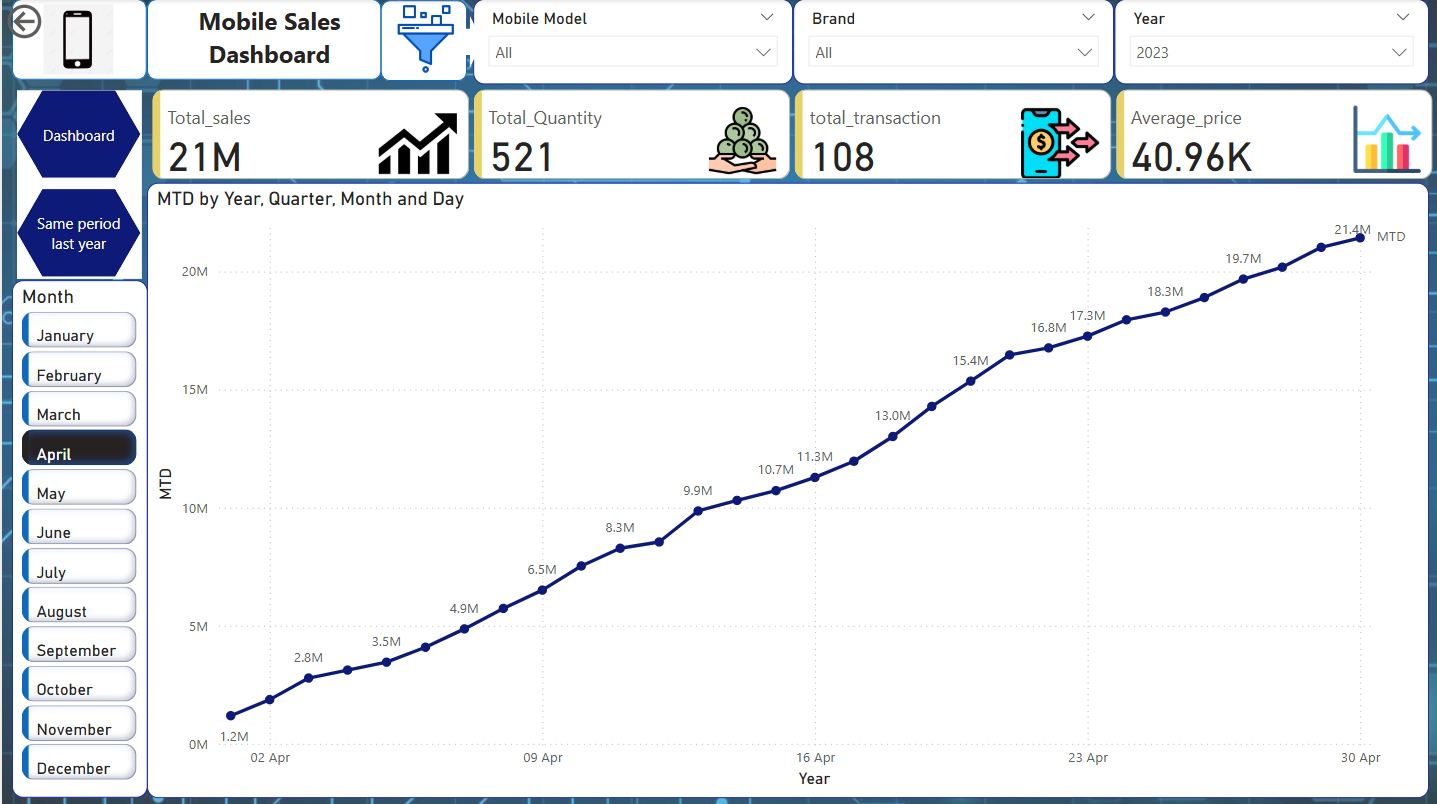

Layout of this report page (visuals, bound fields, positions):
{"tool":"powerbi","page":{"name":"MTD","canvas":[1280,720],"ordinal":1},"visuals":[{"type":"shape","box":[8.4,0,120.6,72.4],"z":0},{"type":"cardVisual","fields":{"Data":["sales_data.Total_sales","sales_data.Total_Quantity","sales_data.total_transaction","sales_data.Average_price"]},"box":[129.1,76,1150.9,90.5],"z":1000},{"type":"shape","box":[129.1,0,208.7,72.4],"z":2000},{"type":"slicer","fields":{"Values":["sales_data.Mobile Model"]},"box":[419.8,0,284.7,76],"z":3000},{"type":"slicer","fields":{"Values":["Custom_formula.Date.Variation.Date Hierarchy.Year"]},"box":[990.5,0,279.9,76],"z":4000},{"type":"slicer","fields":{"Values":["sales_data.Brand"]},"box":[704.6,0,285.9,76],"z":5000},{"type":"shape","box":[337.8,1.2,77.2,72.4],"z":6000},{"type":"image","box":[295.6,0,162.9,71.2],"z":7000},{"type":"shape","box":[405.4,14.5,22.9,47.1],"z":8000},{"type":"textbox","box":[137.5,0,200.3,71.2],"z":9000},{"type":"lineChart","fields":{"Y":["sales_data.MTD"],"Category":["Custom_formula.Date.Variation.Date Hierarchy.Year","Custom_formula.Date.Variation.Date Hierarchy.Quarter","Custom_formula.Date.Variation.Date Hierarchy.Month","Custom_formula.Date.Variation.Date Hierarchy.Day"]},"box":[129.1,164.1,1141.3,547.7],"z":10000},{"type":"actionButton","box":[0,0,100,40],"z":11000},{"type":"advancedSlicerVisual","fields":{"Values":["Custom_formula.Date.Variation.Date Hierarchy.Month"]},"box":[8.4,250.9,120.6,460.9],"z":12000},{"type":"pageNavigator","box":[13.3,80.8,111,167.7],"z":13000},{"type":"image","box":[3.6,0,129.1,72.4],"z":14000}]}

Visuals, with their boxes in screenshot pixels (x1, y1, x2, y2), scaled from the page's 1280x720 canvas onto the 1437x804 screenshot:
shape: BBox(9, 0, 145, 81)
cardVisual - sales_data.Total_sales x sales_data.Total_Quantity: BBox(145, 85, 1436, 186)
shape: BBox(145, 0, 379, 81)
slicer - sales_data.Mobile Model: BBox(471, 0, 791, 85)
slicer - Custom_formula.Date.Variation.Date Hierarchy.Year: BBox(1112, 0, 1426, 85)
slicer - sales_data.Brand: BBox(791, 0, 1112, 85)
shape: BBox(379, 1, 466, 82)
image: BBox(332, 0, 515, 80)
shape: BBox(455, 16, 481, 69)
textbox: BBox(154, 0, 379, 80)
lineChart - sales_data.MTD x Custom_formula.Date.Variation.Date Hierarchy.Year: BBox(145, 183, 1426, 795)
actionButton: BBox(0, 0, 112, 45)
advancedSlicerVisual - Custom_formula.Date.Variation.Date Hierarchy.Month: BBox(9, 280, 145, 795)
pageNavigator: BBox(15, 90, 140, 277)
image: BBox(4, 0, 149, 81)
